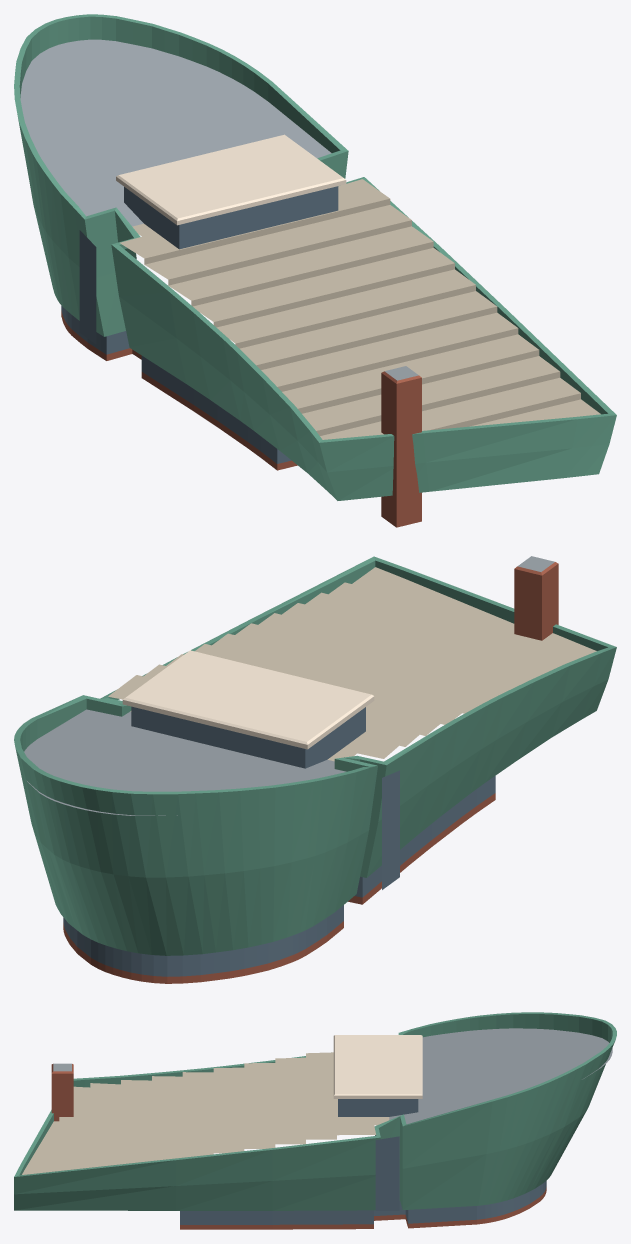
Rendered from amsterdam-nemo.glb.
The picture shows the model from 3 angles, top to bottom: view 1: azimuth 30°, elevation 25°; view 2: azimuth 150°, elevation 25°; view 3: azimuth 270°, elevation 25°; orthographic projection. The views are drawn at different scales.
Visible parts, largest first — view 1: NEMO Science Museum; view 2: NEMO Science Museum; view 3: NEMO Science Museum.
Part boxes in pixels (x1,y1,x2,y2): NEMO Science Museum: (14,14,616,527); NEMO Science Museum: (14,556,616,983); NEMO Science Museum: (14,1012,616,1229).
Size of the model in its own units: 44.4 by 32.6 by 115.
